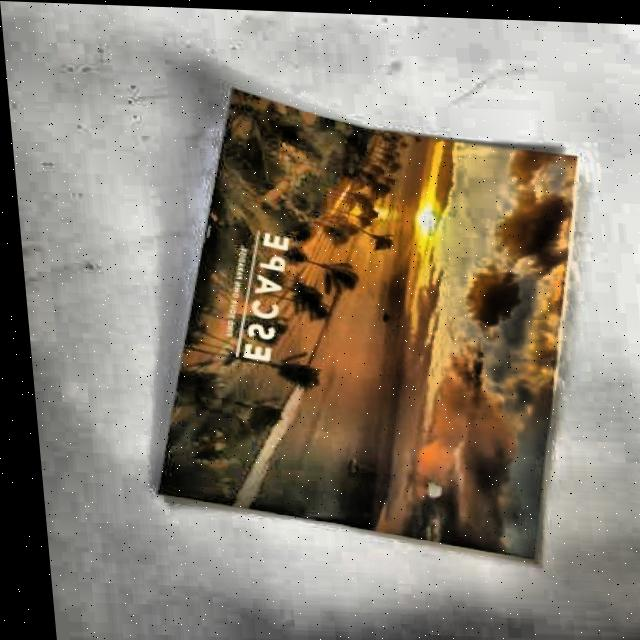paper: (118, 82, 615, 562)
